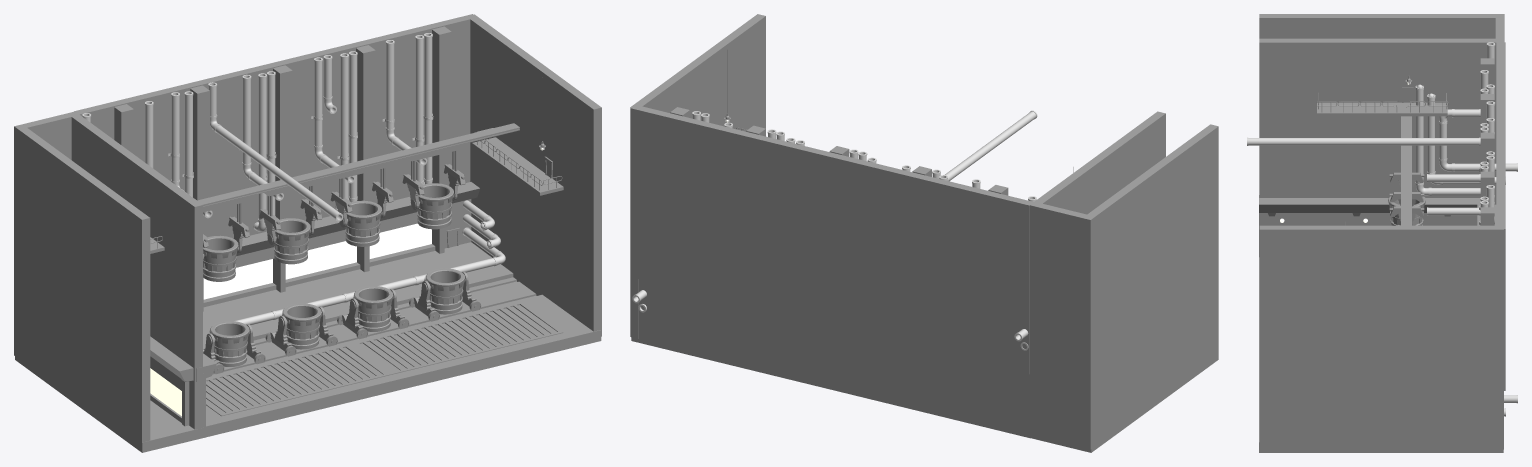
The model's file is factory (1).fbx.
3 views of the same model, side by side, from view 1: azimuth 30°, elevation 25°; view 2: azimuth 150°, elevation 25°; view 3: azimuth 270°, elevation 25° (orthographic). The views are drawn at different scales.
Visible parts, largest first — view 1: pCube28, pCube27, pCube8, pCube21, pCube24, pCylinder1 (×8), pPlane1, ribbon_windows, polySurface3 (×6), pCube9, pCube15, pCube14 (+26 smaller); view 2: pCube21, pCube28, pCube9, pCube30, pCube27, pCube24, Pipe_32, pCube29; view 3: pCube27, pCube24, pCube28, pCube41, pCube21, pCube25, Pipe_32, pCube42, pCube8, Pipe_7, pCube33, Pipe_10 (+11 smaller).
Boxes of the visible parts, x1,y1,x2,y2 form: pCube28: [17, 125, 150, 448]; pCube27: [470, 14, 601, 336]; pCube8: [202, 242, 601, 437]; pCube21: [74, 14, 476, 238]; pCube24: [69, 112, 202, 429]; pCylinder1 (×8): [203, 183, 464, 366]; pPlane1: [206, 302, 563, 416]; ribbon_windows: [203, 223, 431, 299]; polySurface3 (×6): [259, 164, 476, 351]; pCube9: [203, 199, 471, 307]; pCube15: [432, 26, 451, 185]; pCube14: [356, 45, 375, 202]; pCube21: [630, 104, 1033, 374]; pCube28: [1084, 124, 1218, 445]; pCube9: [631, 279, 1030, 438]; pCube30: [1030, 202, 1095, 449]; pCube27: [630, 14, 765, 338]; pCube24: [1032, 111, 1165, 214]; Pipe_32: [944, 110, 1037, 181]; pCube29: [1030, 356, 1218, 452]; pCube27: [1259, 225, 1503, 449]; pCube24: [1259, 38, 1503, 225]; pCube28: [1259, 14, 1503, 38]; pCube41: [1259, 195, 1480, 212]; pCube21: [1496, 42, 1505, 390]; pCube25: [1317, 102, 1447, 116]; Pipe_32: [1247, 137, 1480, 145]; pCube42: [1259, 213, 1444, 257]; pCube8: [1259, 257, 1503, 452]; Pipe_7: [1415, 88, 1423, 185]; pCube33: [1401, 116, 1411, 172]; Pipe_10: [1427, 97, 1435, 174].
Bounding box in the file's own units: 21349 × 10389 × 11340.
